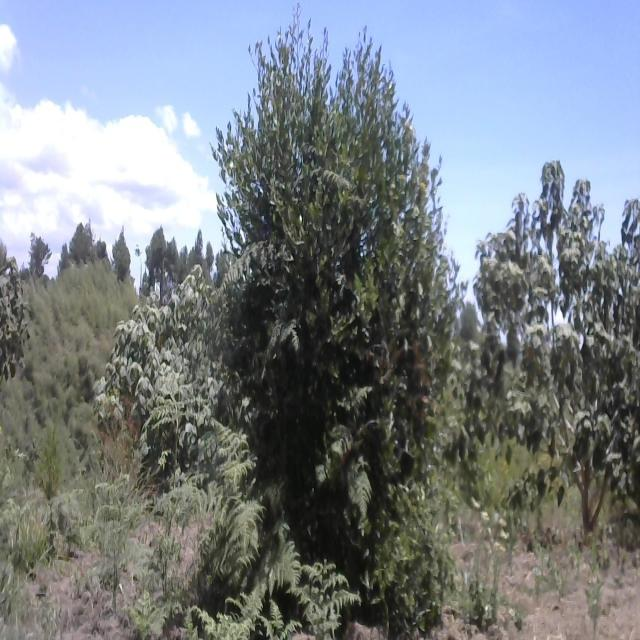Salix alba: (222, 3, 466, 640)
cedrus: (110, 220, 138, 300)
other: (510, 134, 640, 558), (100, 266, 227, 464), (0, 248, 25, 377)
